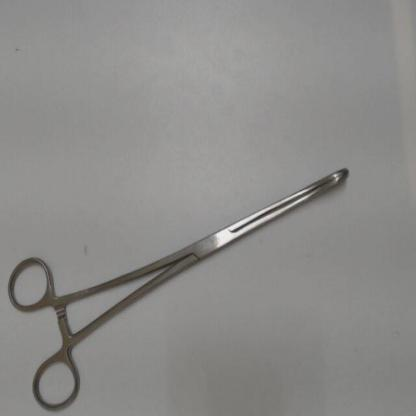Sponge Forceps: (2, 155, 361, 414)
